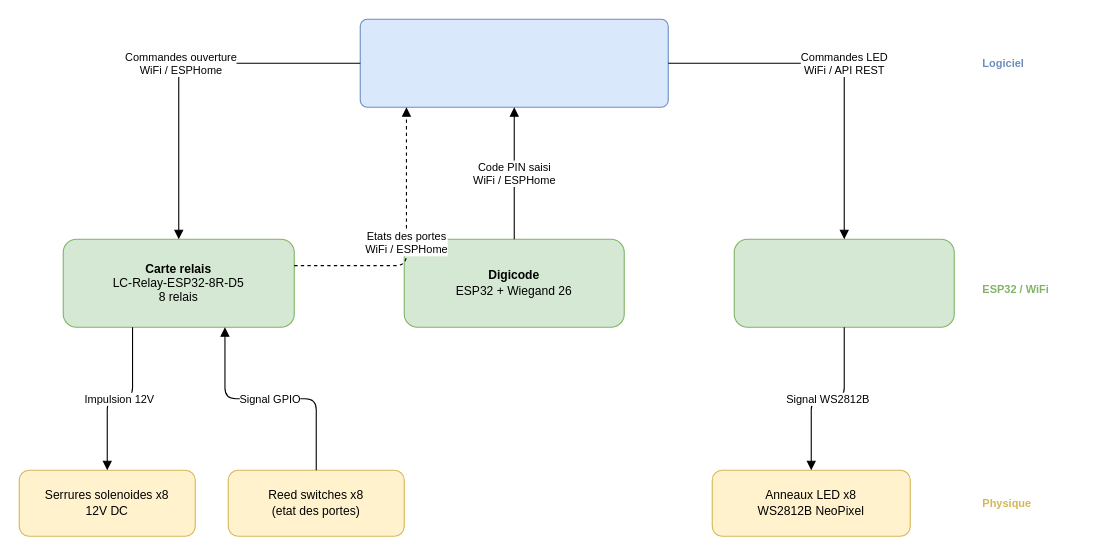
This 1095x556 diagram has some shape labels left out. The shapes that lost their labels are listed below. From the top down, each one's box as (x1, y1, x2, y2) in pixels, then its label:
(359, 18, 668, 107): Raspberry Pi 4 Home Assistant OS
(733, 238, 954, 327): WLED Gledopto 4 voies
